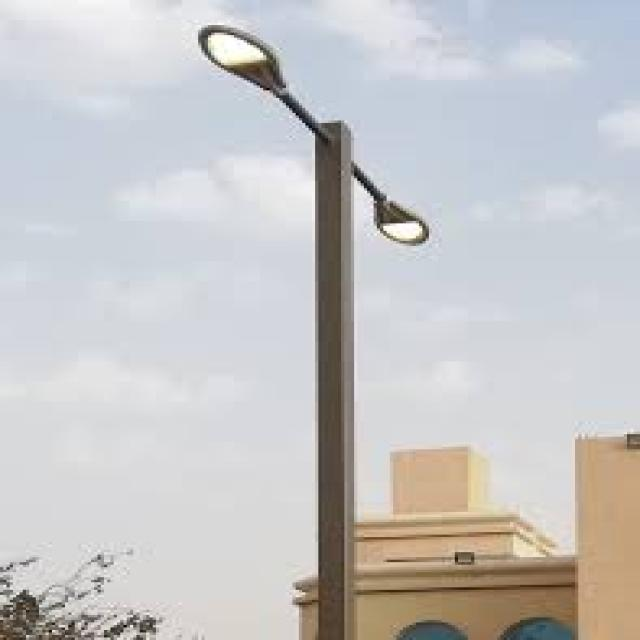Street Light: (195, 25, 429, 640)
